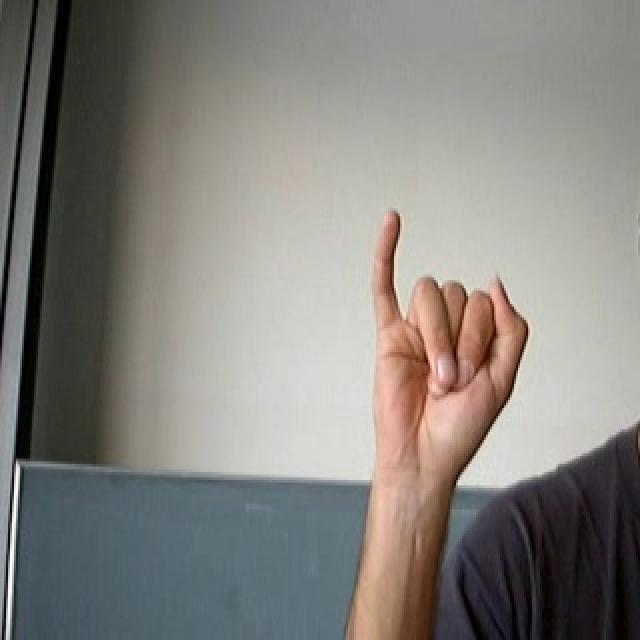I: (354, 193, 540, 483)
